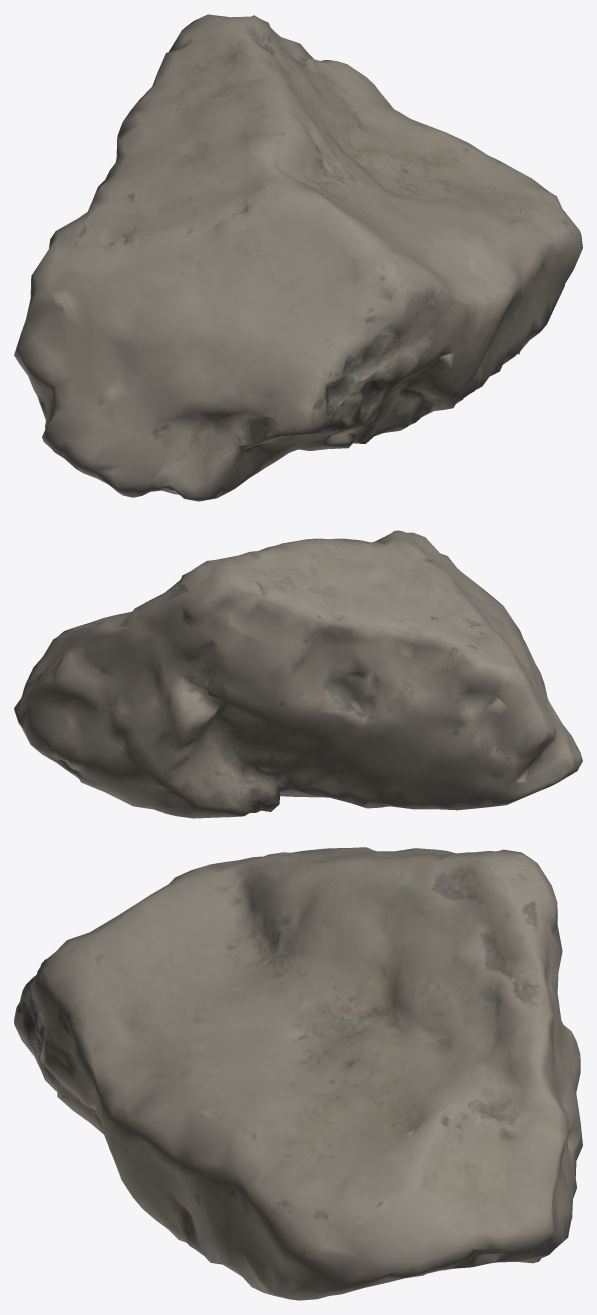
File: moonrock1.glb
The picture shows the model from 3 angles, top to bottom: view 1: azimuth 30°, elevation 25°; view 2: azimuth 150°, elevation 25°; view 3: azimuth 270°, elevation 25°; orthographic projection. The views are drawn at different scales.
Parts seen in each view (by area): view 1: moon_rock_03_LOD0; view 2: moon_rock_03_LOD0; view 3: moon_rock_03_LOD0.
Part boxes in pixels (x1,y1,x2,y2): moon_rock_03_LOD0: (14,14,582,501); moon_rock_03_LOD0: (14,530,582,818); moon_rock_03_LOD0: (14,847,582,1300).
Bounding box in the file's own units: 0.112 × 0.0582 × 0.0861.
1 material, 1 textured.
